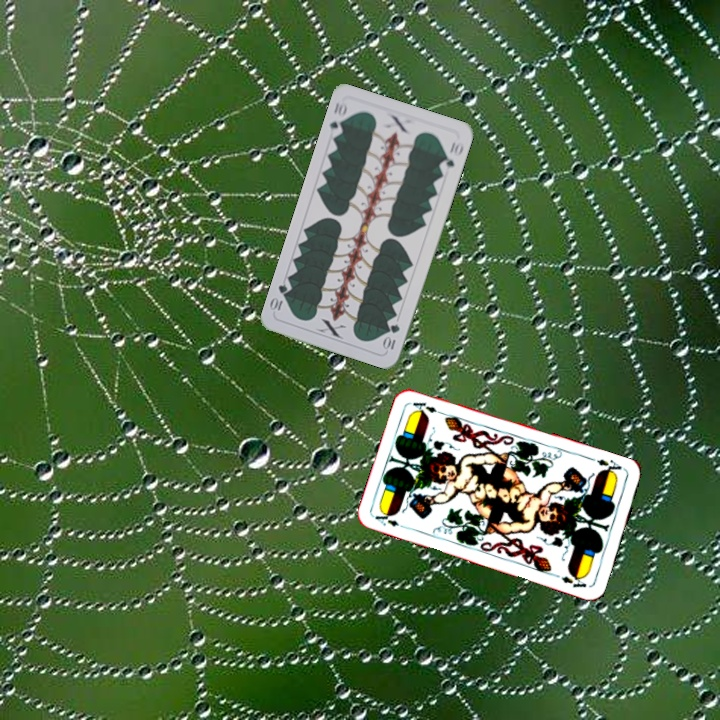EA: (371, 507, 410, 532), (592, 455, 624, 478)
G10: (326, 98, 350, 139), (380, 320, 402, 353)
